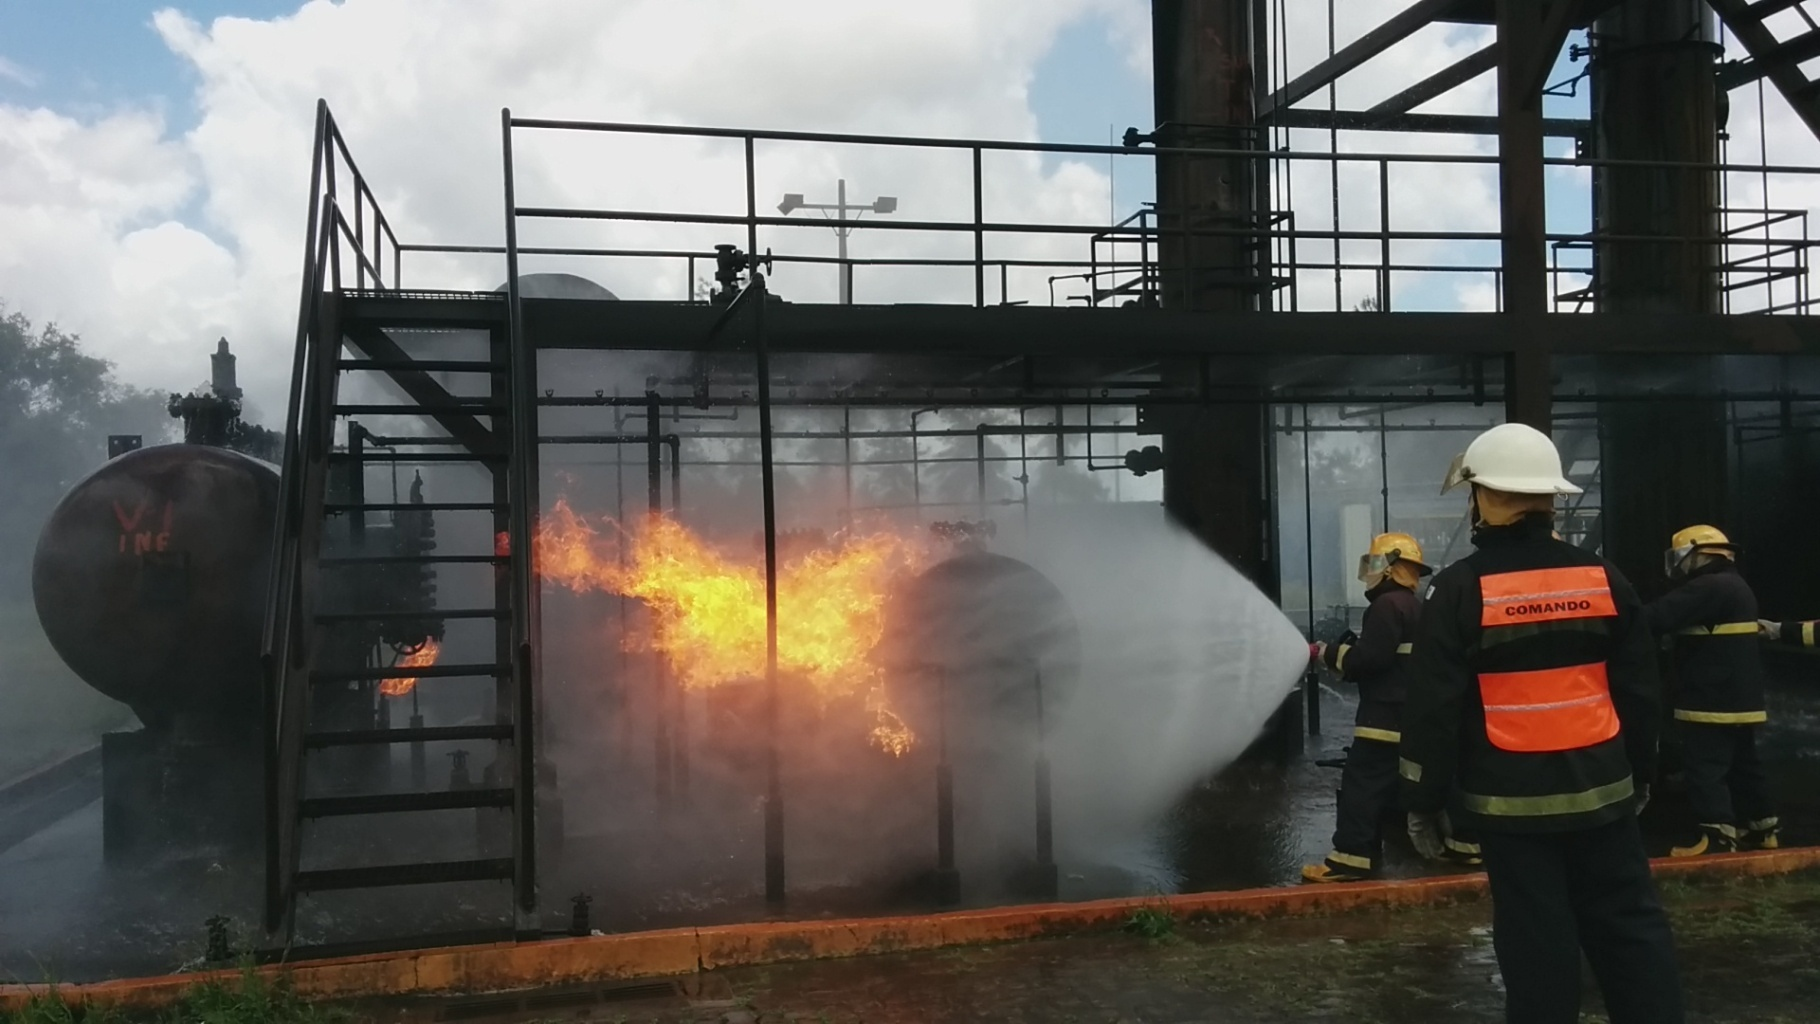fire: (532, 498, 954, 728), (377, 631, 442, 696)
